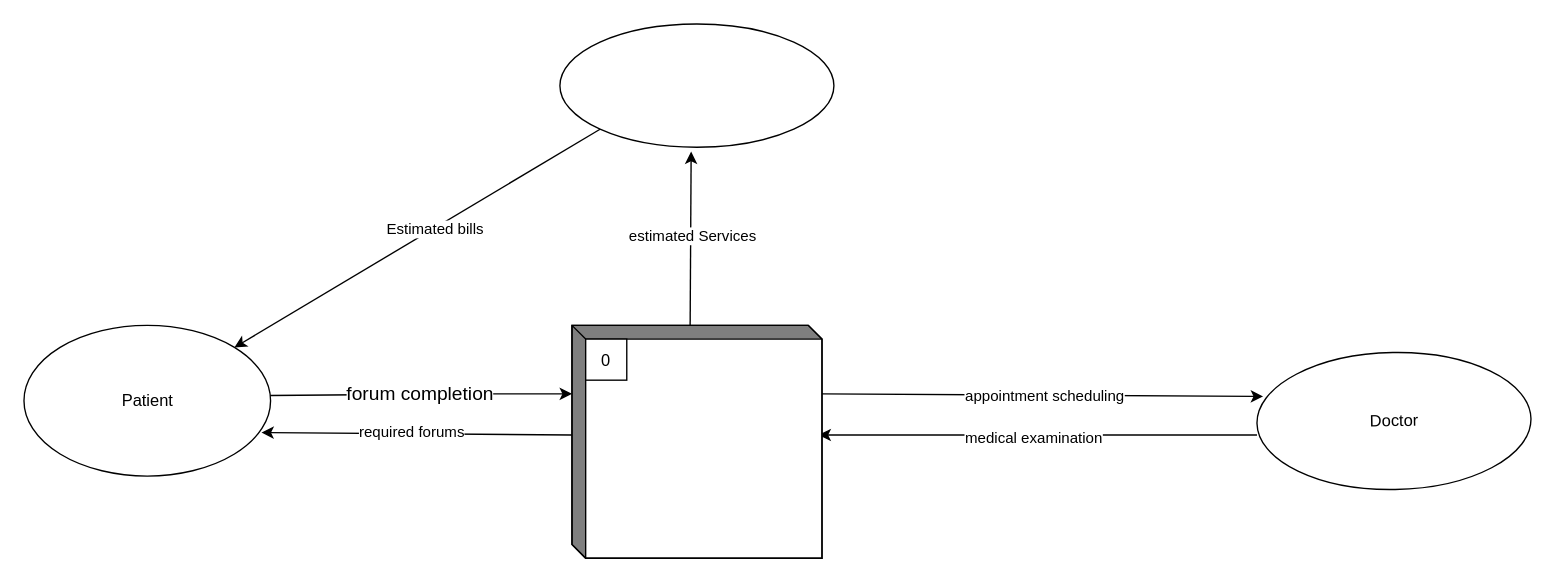
This 1556x582 diagram has some shape labels left out. Here are the shapes that lost their labels. From the top down, the centre of each, then its label:
the point at 696,85: Accounting
the point at 696,441: Healthcare system
